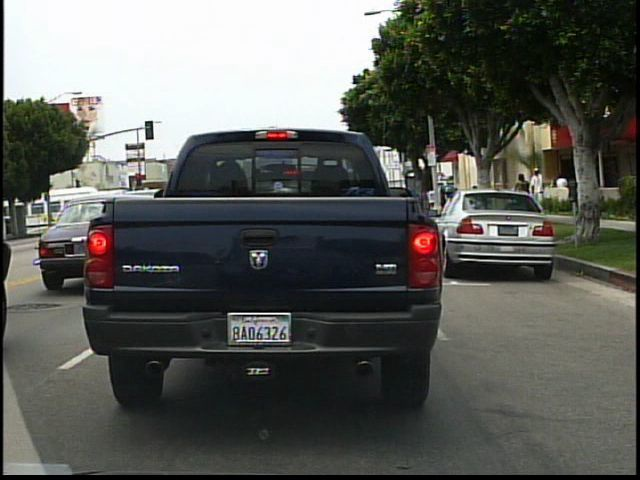person: (552, 170, 572, 215), (472, 178, 492, 222)
